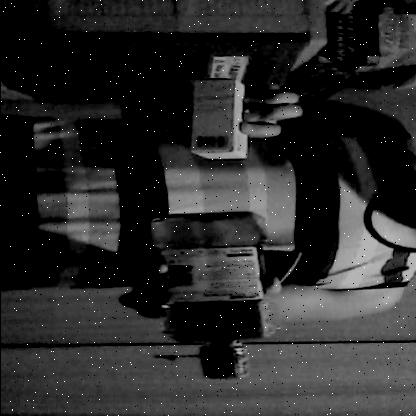Plastic Bottle: (141, 204, 284, 383)
